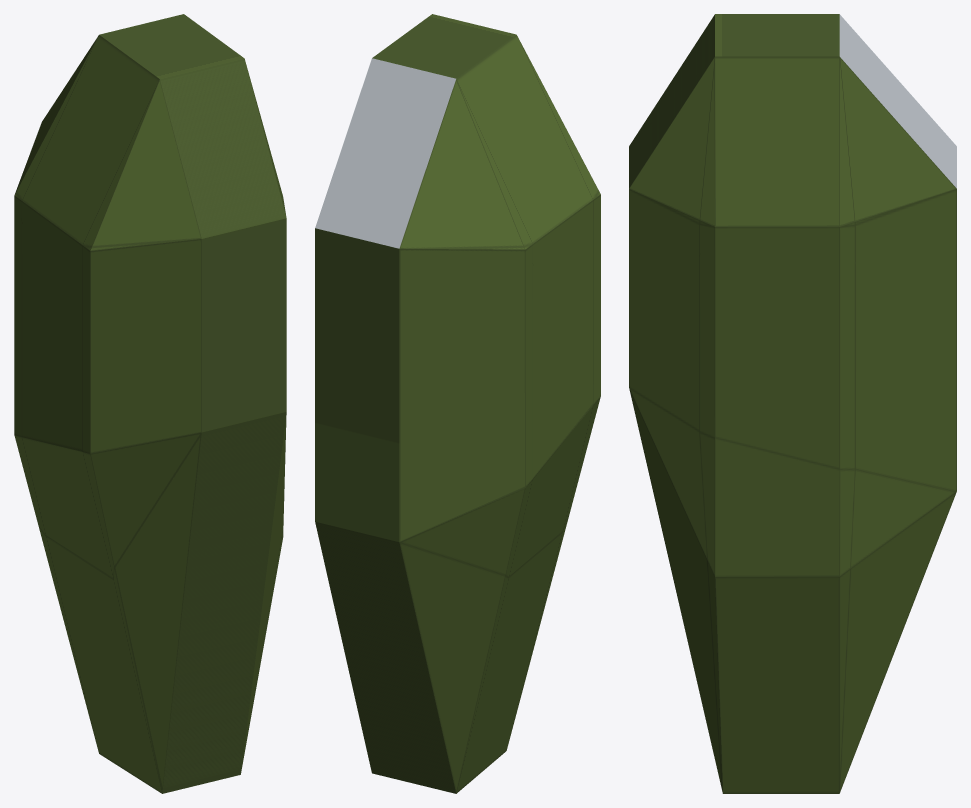
Rendered from LLeagAbove.fbx.
3 views of the same model, side by side, from view 1: azimuth 30°, elevation 25°; view 2: azimuth 150°, elevation 25°; view 3: azimuth 270°, elevation 25° (orthographic). The views are drawn at different scales.
Parts seen in each view (by area): view 1: Shape_IndexedFaceSet.008; view 2: Shape_IndexedFaceSet.008, Shape_IndexedFaceSet.007; view 3: Shape_IndexedFaceSet.008, Shape_IndexedFaceSet.007.
Boxes of the visible parts, left/top/right/bottom form: Shape_IndexedFaceSet.008: left=14, top=14, right=286, bottom=793; Shape_IndexedFaceSet.008: left=315, top=14, right=600, bottom=793; Shape_IndexedFaceSet.007: left=315, top=58, right=455, bottom=248; Shape_IndexedFaceSet.008: left=629, top=14, right=956, bottom=793; Shape_IndexedFaceSet.007: left=839, top=14, right=956, bottom=188.
Size of the model in its own units: 0.1272 by 0.4361 by 0.1757.
